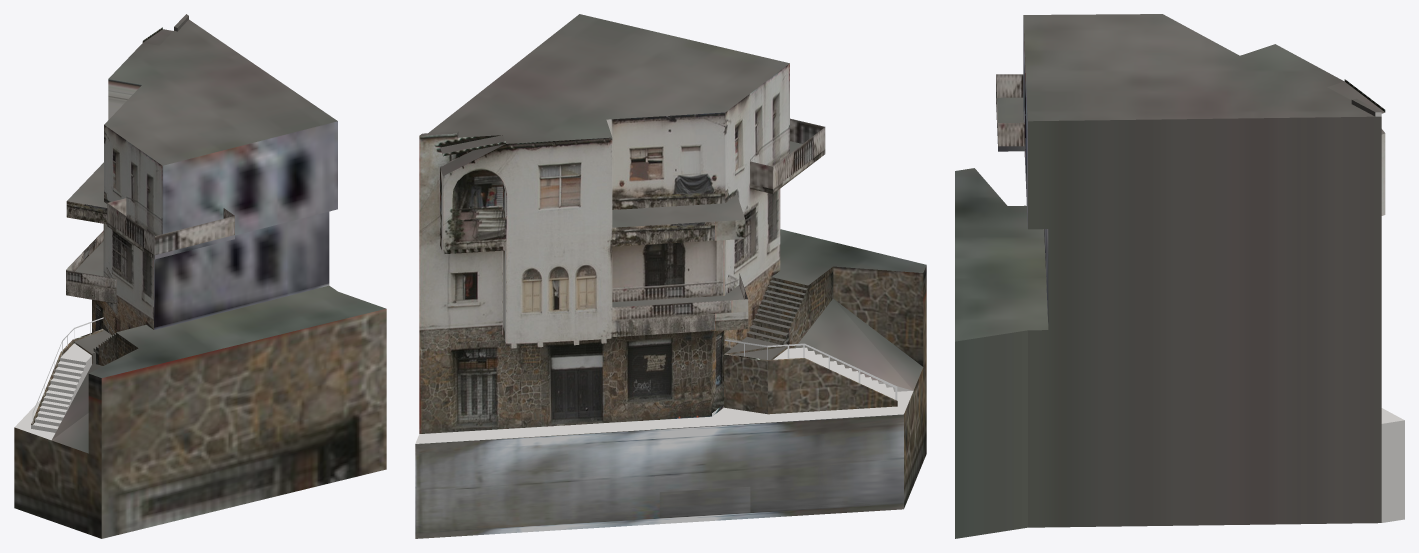
The model's file is av+colombia+esquina.fbx.
3 views of the same model, side by side, from view 1: azimuth 30°, elevation 25°; view 2: azimuth 150°, elevation 25°; view 3: azimuth 270°, elevation 25° (orthographic). The views are drawn at different scales.
Parts seen in each view (by area): view 1: Model; view 2: Model; view 3: Model.
Part boxes in pixels (<box>): Model: <box>14,14,386,538</box>; Model: <box>415,14,926,538</box>; Model: <box>955,14,1404,538</box>.
Size of the model in its own units: 20.22 by 20.3 by 20.14.
